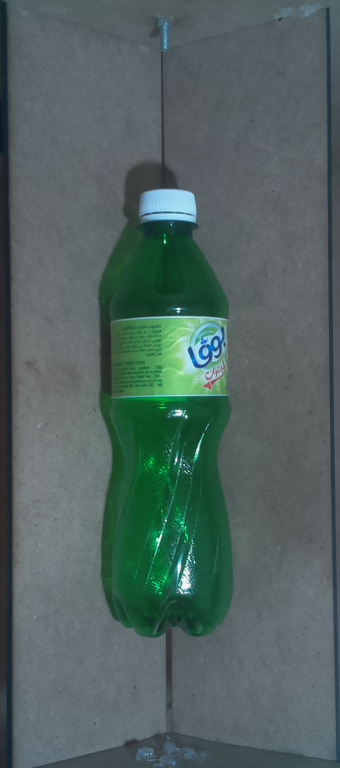Bouteille_0.5L: (97, 180, 241, 641)
